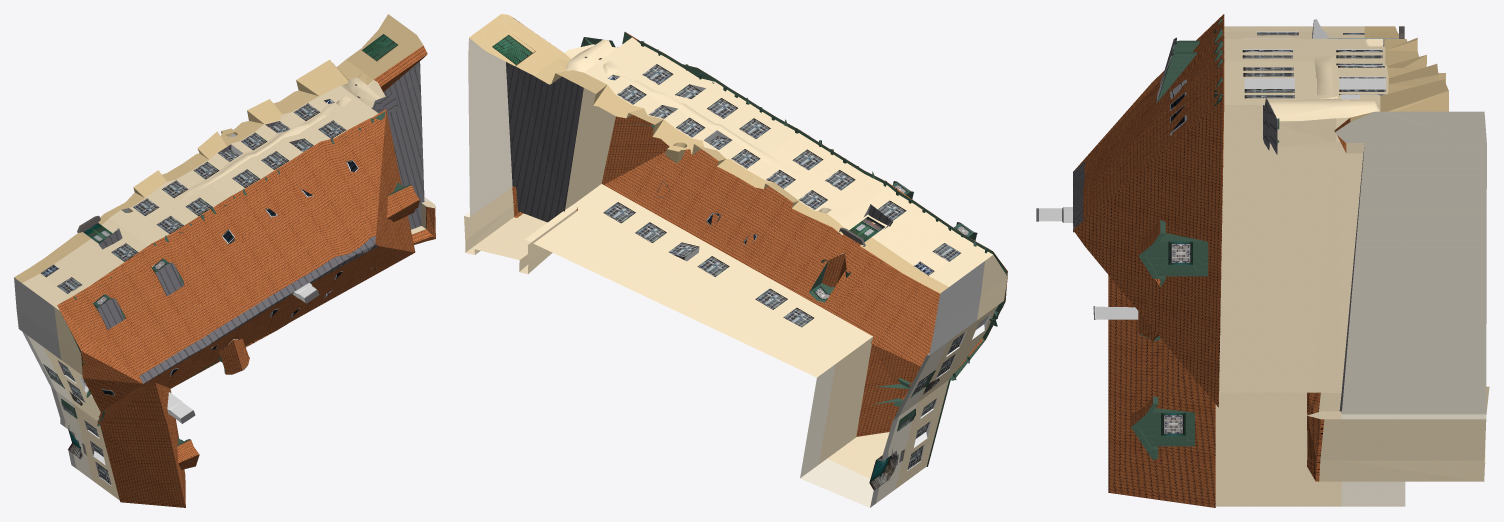
The model's file is Pyhavaimu-6-origo.obj.
3 views of the same model, side by side, from view 1: azimuth 30°, elevation 25°; view 2: azimuth 150°, elevation 25°; view 3: azimuth 270°, elevation 25° (orthographic). The views are drawn at different scales.
Parts seen in each view (by area): view 1: Pyhavaimu_6; view 2: Pyhavaimu_6; view 3: Pyhavaimu_6.
Part boxes in pixels (x1,y1,x2,y2): Pyhavaimu_6: [14, 14, 435, 507]; Pyhavaimu_6: [464, 14, 1007, 507]; Pyhavaimu_6: [1036, 14, 1489, 507].
Bounding box in the file's own units: 38.25 × 32 × 19.59.
